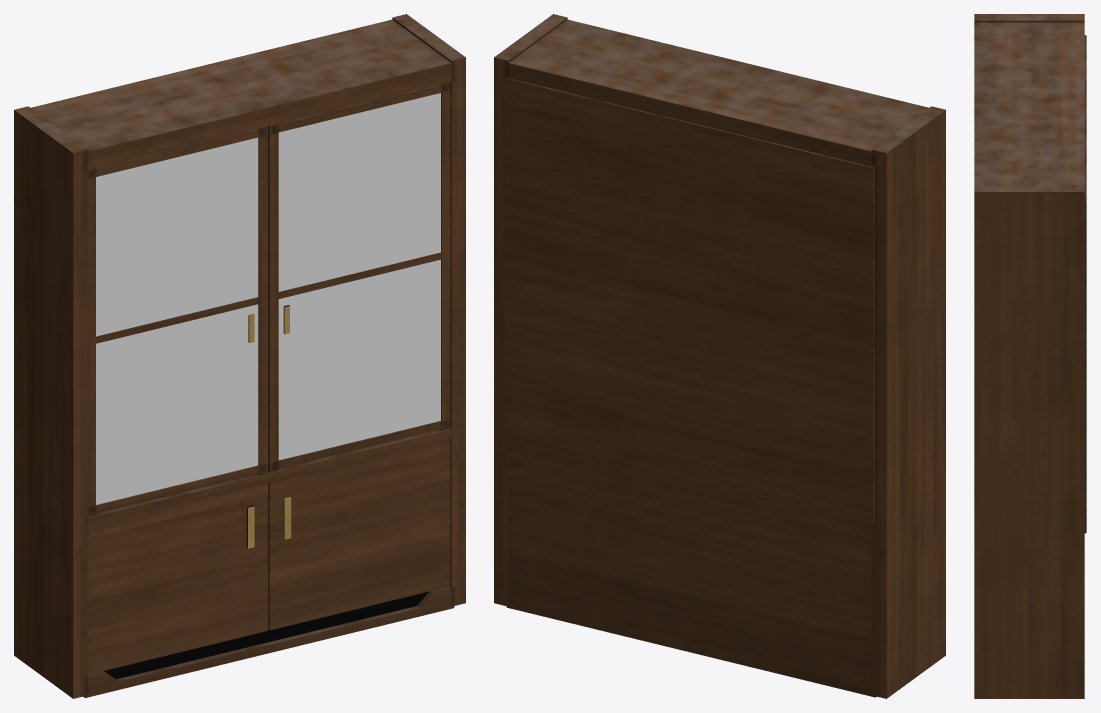
File: H_Bookcase.fbx
The picture shows the model from 3 angles, left to right: view 1: azimuth 30°, elevation 25°; view 2: azimuth 150°, elevation 25°; view 3: azimuth 270°, elevation 25°; orthographic projection. The views are drawn at different scales.
Visible parts, largest first — view 1: H_Bookcase__H_Bookcase, H_Bookcase__H_Bookcase_Glass; view 2: H_Bookcase__H_Bookcase; view 3: H_Bookcase__H_Bookcase.
Boxes of the visible parts, x1=… form: H_Bookcase__H_Bookcase: x1=14, y1=14, x2=465, y2=698; H_Bookcase__H_Bookcase_Glass: x1=96, y1=93, x2=440, y2=504; H_Bookcase__H_Bookcase: x1=494, y1=14, x2=945, y2=698; H_Bookcase__H_Bookcase: x1=974, y1=14, x2=1086, y2=698.
Bounding box in the file's own units: 600 × 800 × 160.
2 materials, 1 textured.
